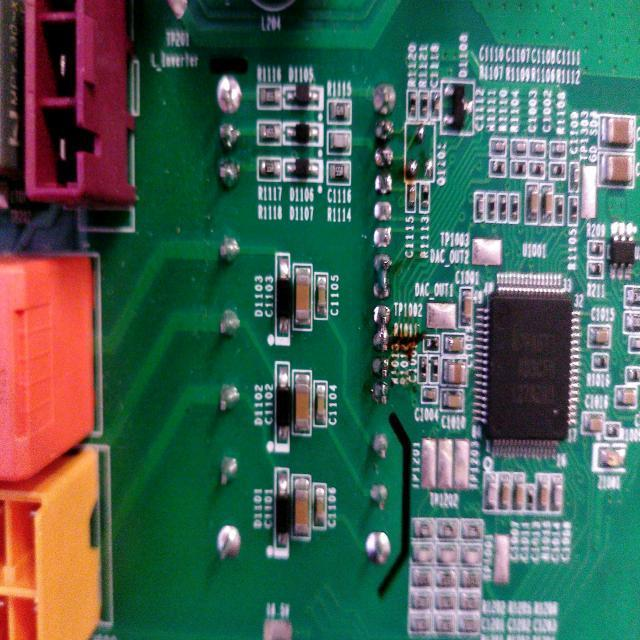Soldering shorted: (372, 252, 393, 302), (372, 302, 393, 352)
